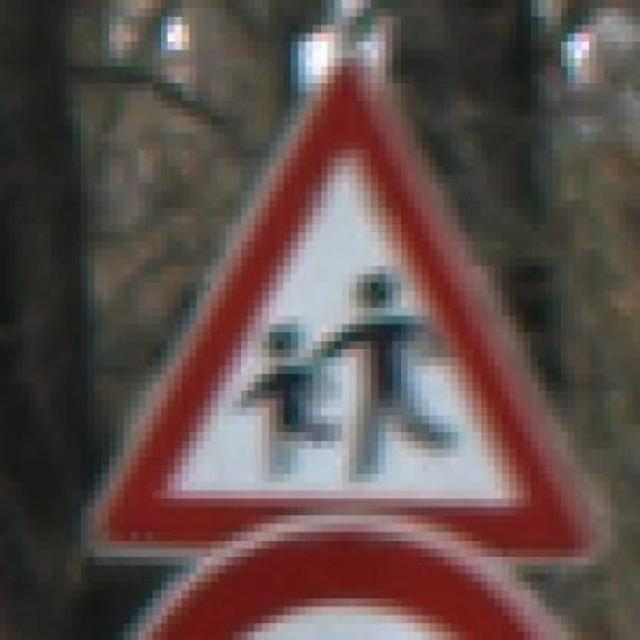Beware of children: (59, 41, 618, 565)
